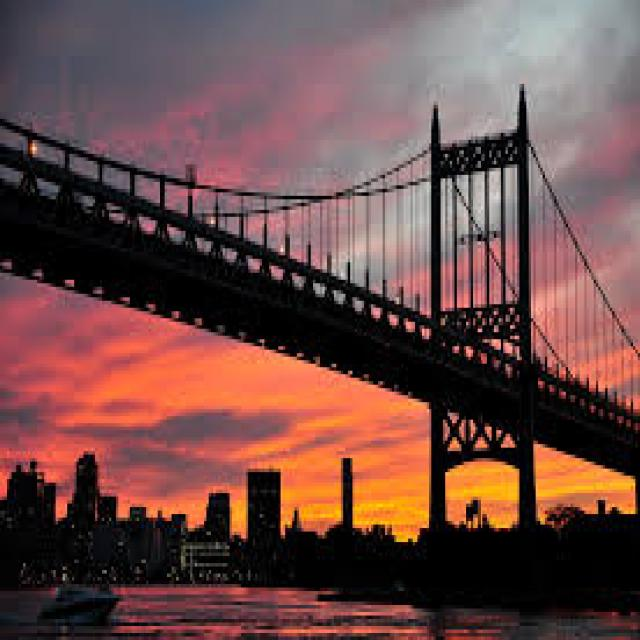Bridges: (4, 21, 639, 557)
